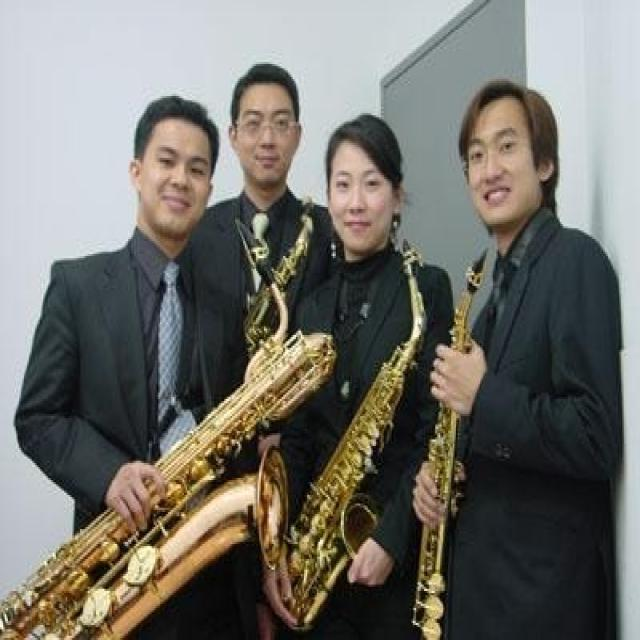saxophone: (0, 220, 334, 638), (269, 237, 431, 626), (411, 243, 494, 636)
